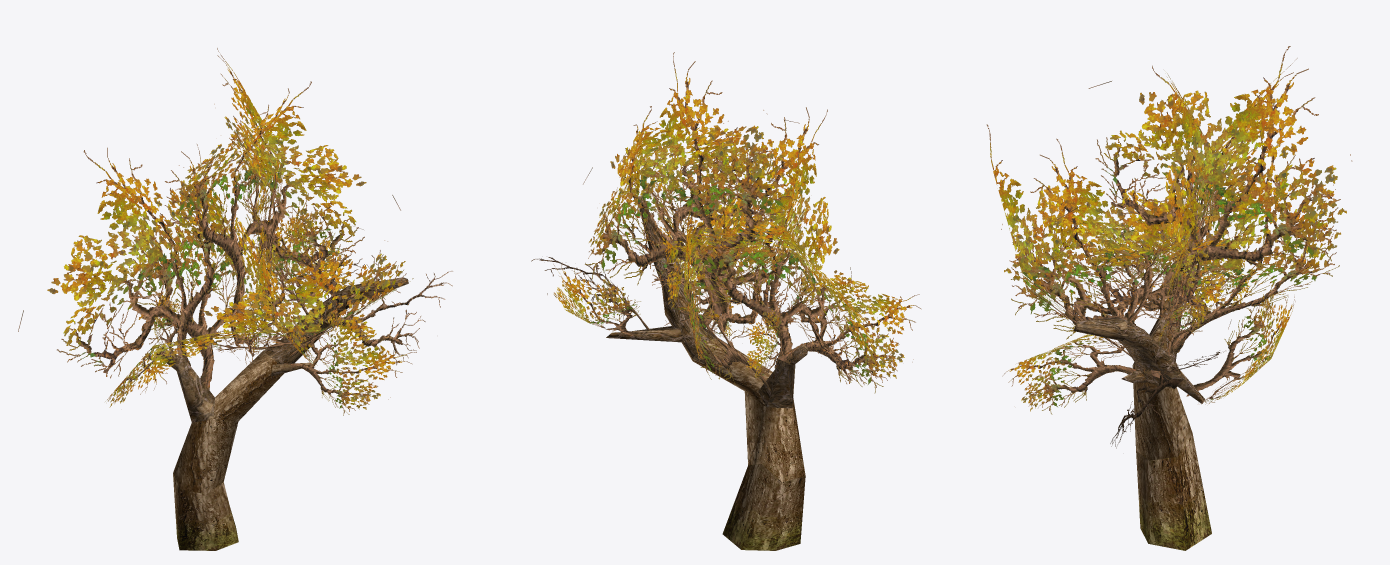
Rendered from w_cd_tree03big.glb.
3 views of the same model, side by side, from view 1: azimuth 30°, elevation 25°; view 2: azimuth 150°, elevation 25°; view 3: azimuth 270°, elevation 25° (orthographic). The views are drawn at different scales.
Parts seen in each view (by area): view 1: w_cd_hotree03big_leaf, w_cd_hotree03big_01, w_cd_hotree03big_03, w_cd_hotree03big_02, w_cd_hotree03big_al02; view 2: w_cd_hotree03big_leaf, w_cd_hotree03big_01, w_cd_hotree03big_02, w_cd_hotree03big_03, w_cd_hotree03big_al02; view 3: w_cd_hotree03big_leaf, w_cd_hotree03big_02, w_cd_hotree03big_03, w_cd_hotree03big_01, w_cd_hotree03big_al02.
Boxes of the visible parts, bbox=[...] form: w_cd_hotree03big_leaf: bbox=[18, 48, 416, 415]; w_cd_hotree03big_01: bbox=[173, 351, 284, 494]; w_cd_hotree03big_03: bbox=[157, 277, 408, 422]; w_cd_hotree03big_02: bbox=[173, 474, 238, 550]; w_cd_hotree03big_al02: bbox=[327, 226, 452, 365]; w_cd_hotree03big_leaf: bbox=[547, 52, 921, 393]; w_cd_hotree03big_01: bbox=[692, 337, 805, 482]; w_cd_hotree03big_02: bbox=[722, 464, 805, 550]; w_cd_hotree03big_03: bbox=[606, 208, 808, 408]; w_cd_hotree03big_al02: bbox=[531, 257, 650, 330]; w_cd_hotree03big_leaf: bbox=[986, 46, 1352, 414]; w_cd_hotree03big_02: bbox=[1136, 433, 1211, 550]; w_cd_hotree03big_03: bbox=[1073, 281, 1204, 403]; w_cd_hotree03big_01: bbox=[1132, 363, 1192, 460]; w_cd_hotree03big_al02: bbox=[1110, 342, 1248, 448].
Bounding box in the file's own units: 38.55 × 40.72 × 26.86.
5 materials, 5 textured.
